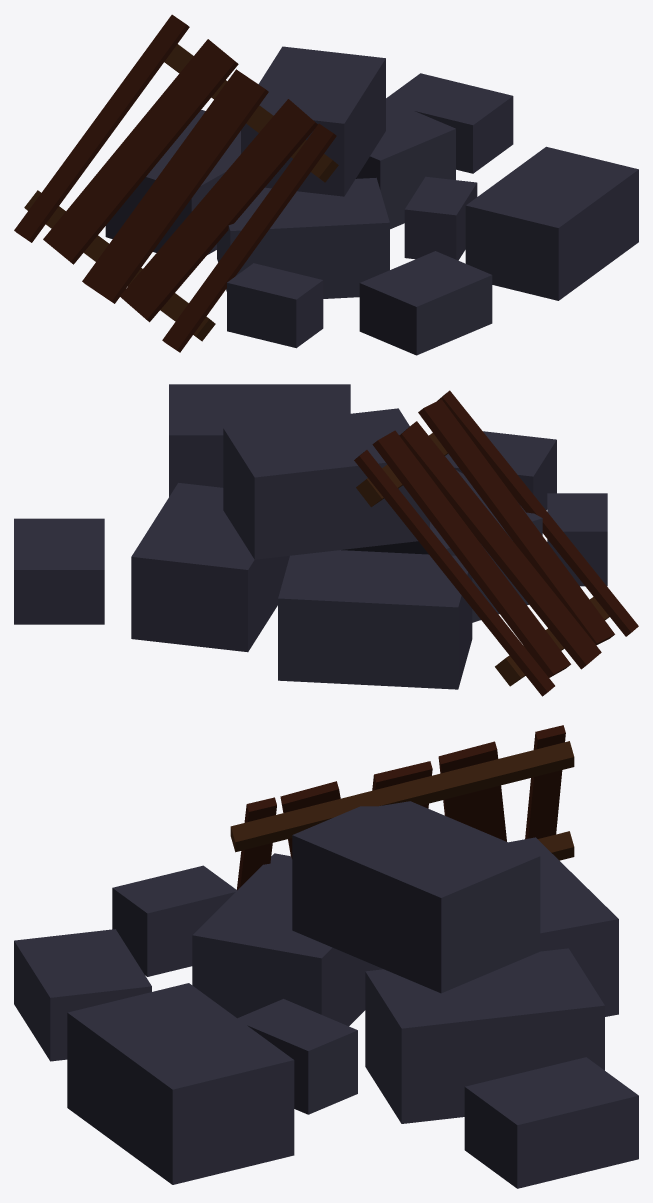
Rendered from Ruble5.fbx.
3 views of the same model, one above another, from view 1: azimuth 30°, elevation 25°; view 2: azimuth 150°, elevation 25°; view 3: azimuth 270°, elevation 25° (orthographic). The views are drawn at different scales.
Parts seen in each view (by area): view 1: mergedBlocks; view 2: mergedBlocks; view 3: mergedBlocks.
Part boxes in pixels (x1,y1,x2,y2): mergedBlocks: (14, 14, 638, 355); mergedBlocks: (14, 384, 638, 696); mergedBlocks: (14, 725, 638, 1188).
Bounding box in the file's own units: 20.95 × 8.98 × 17.81.
